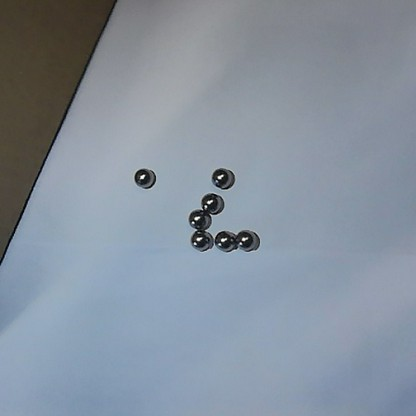ironball: (236, 224, 262, 253), (187, 205, 211, 231), (209, 165, 233, 190), (133, 166, 158, 189), (186, 231, 212, 253), (214, 227, 235, 254), (201, 192, 224, 214)
